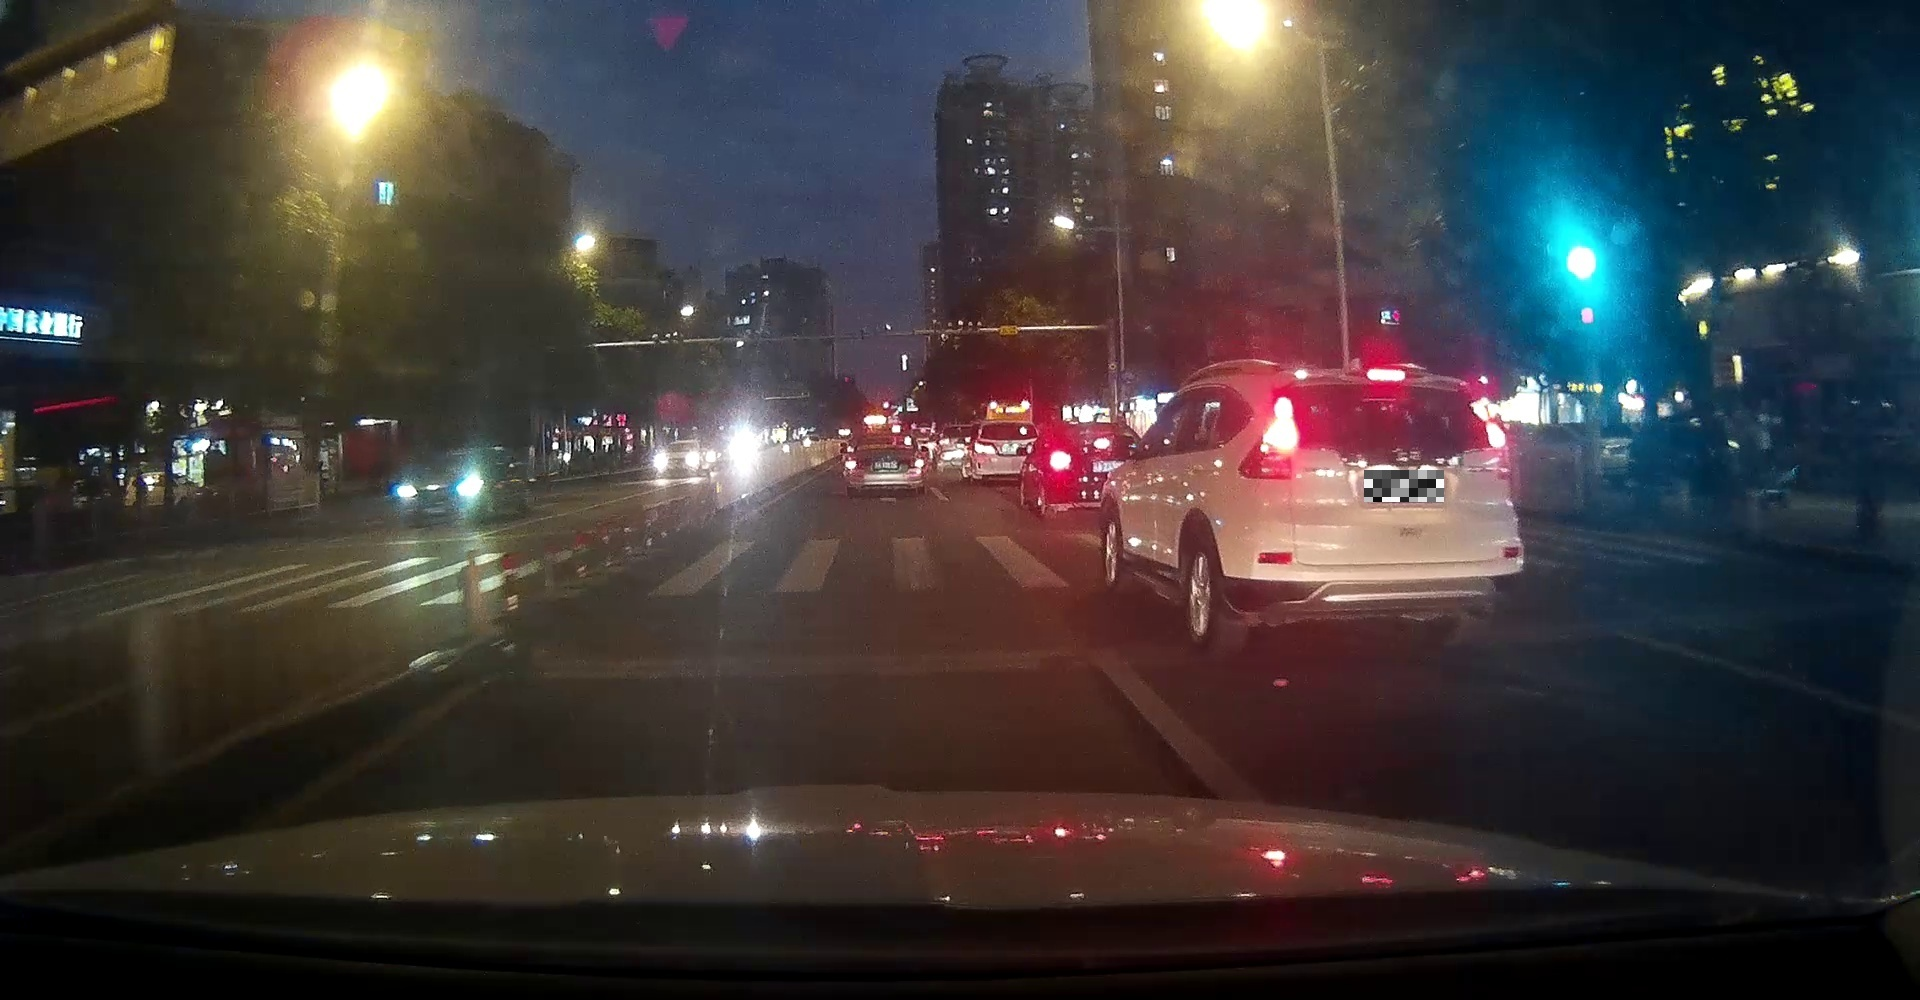L_light: (1239, 396, 1293, 478)
R_light: (1482, 398, 1517, 478)
T_light: (1366, 369, 1406, 381)
night-brake: (1230, 364, 1526, 648)
plate_1: (1364, 470, 1444, 503)
